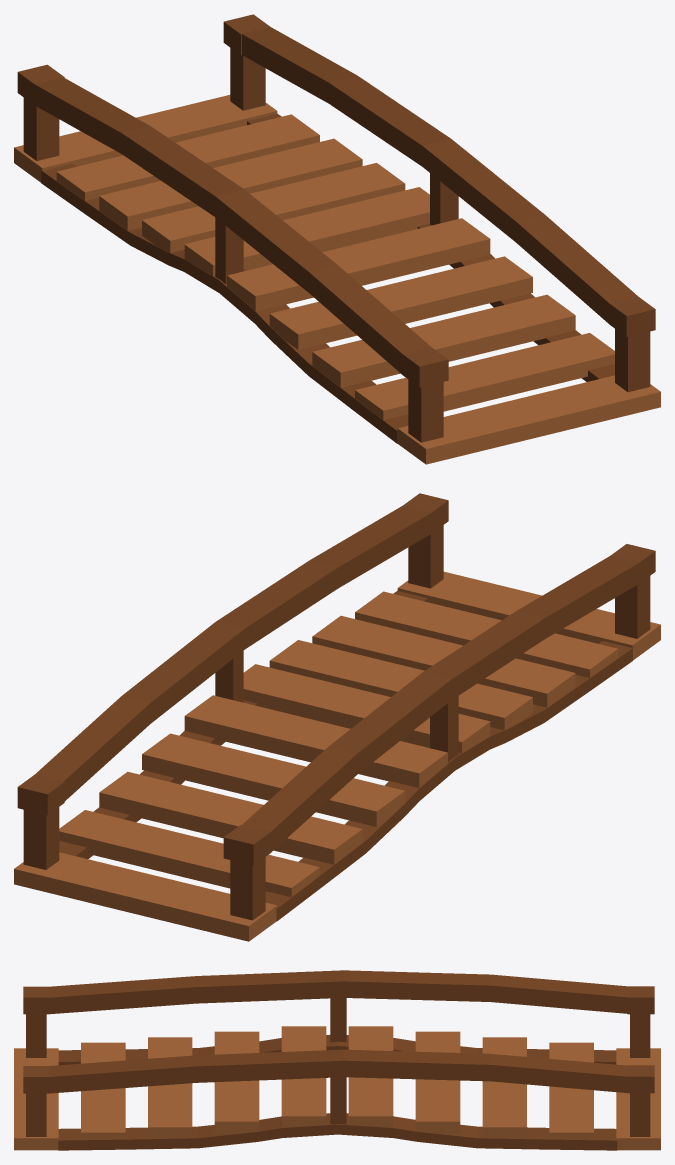
The model's file is Bridge.glb.
3 renders of one model, top to bottom at view 1: azimuth 30°, elevation 25°; view 2: azimuth 150°, elevation 25°; view 3: azimuth 270°, elevation 25°, orthographic. The views are drawn at different scales.
Parts seen in each view (by area): view 1: Cube, Cube.005; view 2: Cube, Cube.005; view 3: Cube.005, Cube.
Boxes of the visible parts, x1,y1,x2,y2 form: Cube: [14, 95, 660, 464]; Cube.005: [17, 14, 655, 443]; Cube: [14, 571, 660, 941]; Cube.005: [17, 493, 655, 921]; Cube.005: [23, 970, 654, 1150]; Cube: [14, 1026, 660, 1150].
Size of the model in its own units: 5.32 by 2.47 by 16.11.
